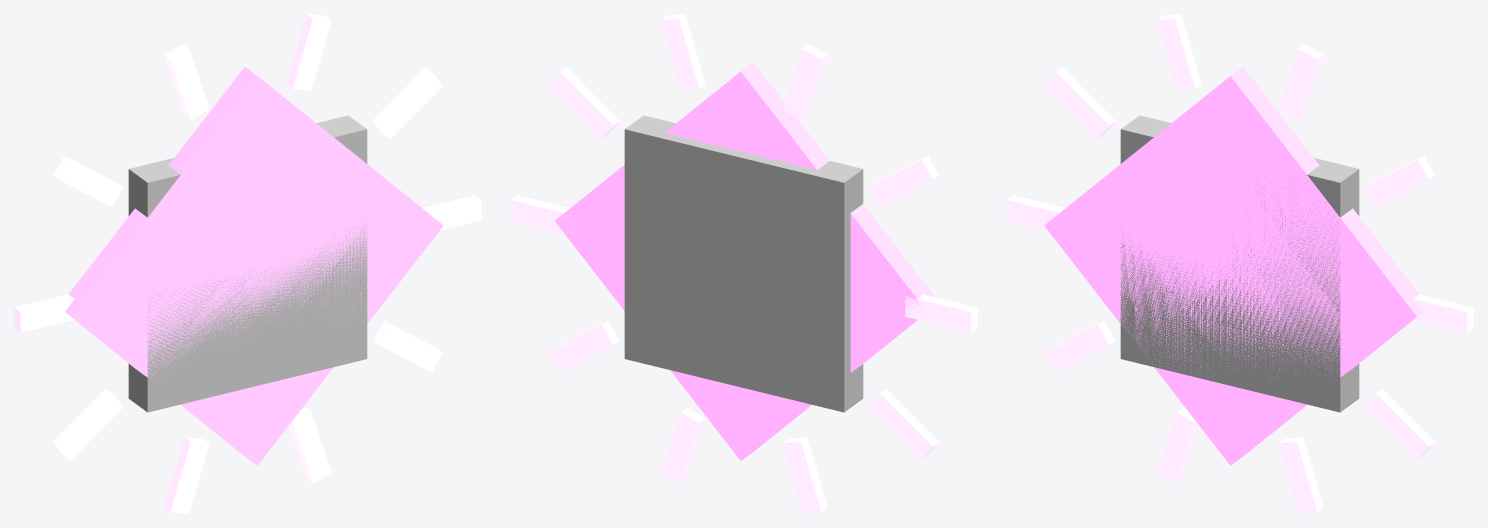
Rendered from FXBlackHole.fbx.
3 views of the same model, side by side, from view 1: azimuth 30°, elevation 25°; view 2: azimuth 150°, elevation 25°; view 3: azimuth 330°, elevation 25° (orthographic).
Visible parts, largest first — view 1: FX Black Hole_body_1, FX Black Hole_body_0, FX Black Hole_body_4, FX Black Hole_body_9, FX Black Hole_body_3, FX Black Hole_body_8, FX Black Hole_body_5, FX Black Hole_body_10, FX Black Hole_body_11, FX Black Hole_body_6, FX Black Hole_body_7, FX Black Hole_body_2; view 2: FX Black Hole_body_0, FX Black Hole_body_1, FX Black Hole_body_4, FX Black Hole_body_9, FX Black Hole_body_3, FX Black Hole_body_8, FX Black Hole_body_7, FX Black Hole_body_10, FX Black Hole_body_5, FX Black Hole_body_11, FX Black Hole_body_6, FX Black Hole_body_2; view 3: FX Black Hole_body_1, FX Black Hole_body_0, FX Black Hole_body_10, FX Black Hole_body_5, FX Black Hole_body_11, FX Black Hole_body_6, FX Black Hole_body_4, FX Black Hole_body_9, FX Black Hole_body_3, FX Black Hole_body_8, FX Black Hole_body_2, FX Black Hole_body_7.
Boxes of the visible parts, x1,y1,x2,y2 form: FX Black Hole_body_1: (65,67,443,465); FX Black Hole_body_0: (128,115,367,412); FX Black Hole_body_4: (286,14,331,90); FX Black Hole_body_9: (164,437,209,513); FX Black Hole_body_3: (372,67,442,138); FX Black Hole_body_8: (53,389,123,460); FX Black Hole_body_5: (164,44,209,119); FX Black Hole_body_10: (288,408,331,483); FX Black Hole_body_11: (372,321,442,372); FX Black Hole_body_6: (53,155,123,206); FX Black Hole_body_7: (14,294,74,332); FX Black Hole_body_2: (422,195,481,230); FX Black Hole_body_0: (624,115,863,412); FX Black Hole_body_1: (555,62,935,460); FX Black Hole_body_4: (660,14,705,90); FX Black Hole_body_9: (782,437,827,513); FX Black Hole_body_3: (549,67,619,138); FX Black Hole_body_8: (868,389,938,460); FX Black Hole_body_7: (905,294,977,332); FX Black Hole_body_10: (660,408,705,483); FX Black Hole_body_5: (782,44,827,119); FX Black Hole_body_11: (549,321,619,372); FX Black Hole_body_6: (868,155,938,206); FX Black Hole_body_2: (510,195,575,234); FX Black Hole_body_1: (1044,67,1422,465); FX Black Hole_body_0: (1120,115,1359,412); FX Black Hole_body_10: (1278,437,1323,513); FX Black Hole_body_5: (1156,14,1201,90); FX Black Hole_body_11: (1364,389,1434,460); FX Black Hole_body_6: (1045,67,1115,138); FX Black Hole_body_4: (1278,44,1323,119); FX Black Hole_body_9: (1156,408,1199,483); FX Black Hole_body_3: (1364,155,1434,206); FX Black Hole_body_8: (1045,321,1115,372); FX Black Hole_body_2: (1413,294,1473,332); FX Black Hole_body_7: (1006,195,1065,230).
Bounding box in the file's own units: 420 × 405 × 30.
